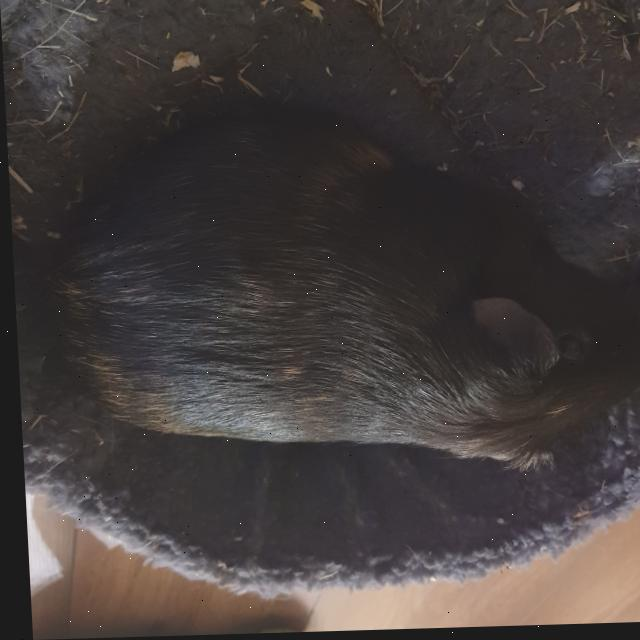guinea pig: (25, 98, 640, 489)
